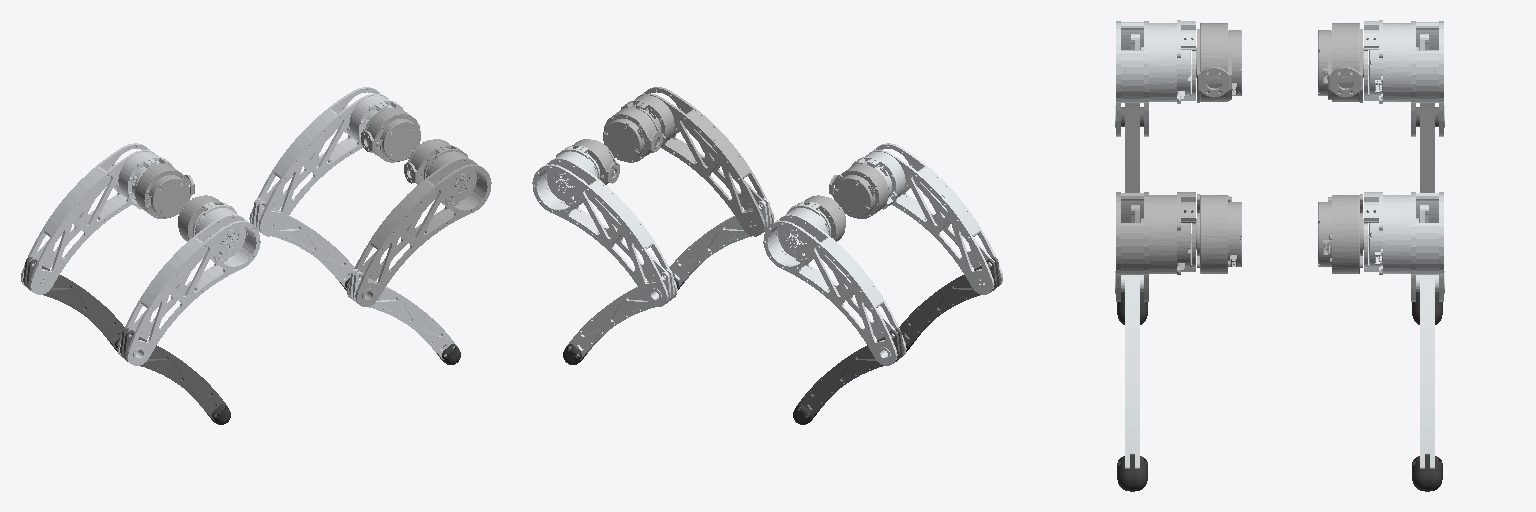
The robot description file, URDF, robot "狗V121.SLDASM":
<?xml version="1.0" encoding="utf-8"?>
<!-- This URDF was automatically created by SolidWorks to URDF Exporter! Originally created by Stephen Brawner (brawner@gmail.com) 
     Commit Version: 1.6.0-4-g7f85cfe  Build Version: 1.6.7995.38578
     For more information, please see http://wiki.ros.org/sw_urdf_exporter -->
<robot
  name="狗V121.SLDASM">
  <link
    name="base_link">
    <inertial>
      <origin
        xyz="-0.0059435691926575 -0.000453042385713198 0.0501292168987138"
        rpy="0 0 0" />
      <mass
        value="4.15713197404765" />
      <inertia
        ixx="0.02291781"
        ixy="-0.00003202"
        ixz="-0.00175005"
        iyy="0.06591285"
        iyz="0.00000542"
        izz="0.07726015" />
    </inertial>
    <visual>
      <origin
        xyz="0 0 0"
        rpy="0 0 0" />
      <geometry>
        <mesh
          filename="package://狗V121.SLDASM/meshes/base_link.STL" />
      </geometry>
      <material
        name="">
        <color
          rgba="0.752941176470588 0.752941176470588 0.752941176470588 1" />
      </material>
    </visual>
    <collision>
      <origin
        xyz="0 0 0"
        rpy="0 0 0" />
      <geometry>
        <mesh
          filename="package://狗V121.SLDASM/meshes/base_link.STL" />
      </geometry>
    </collision>
  </link>
  <link
    name="LF_HipA_link">
    <inertial>
      <origin
        xyz="-0.00311862019787823 5.11900964749179E-05 0.0519616622224092"
        rpy="0 0 0" />
      <mass
        value="0.396736076326694" />
      <inertia
        ixx="0.00044117"
        ixy="0.00000017"
        ixz="0.00000134"
        iyy="0.00031964"
        iyz="-0.00000001"
        izz="0.00028996" />
    </inertial>
    <visual>
      <origin
        xyz="0 0 0"
        rpy="0 0 0" />
      <geometry>
        <mesh
          filename="package://狗V121.SLDASM/meshes/LF_HipA_link.STL" />
      </geometry>
      <material
        name="">
        <color
          rgba="0.752941176470588 0.752941176470588 0.752941176470588 1" />
      </material>
    </visual>
    <collision>
      <origin
        xyz="0 0 0"
        rpy="0 0 0" />
      <geometry>
        <mesh
          filename="package://狗V121.SLDASM/meshes/LF_HipA_link.STL" />
      </geometry>
    </collision>
  </link>
  <joint
    name="LF_HipA_joint"
    type="revolute">
    <origin
      xyz="0.125771692888821 0.0650000000000001 0.0530000000000002"
      rpy="1.5707963267949 0 1.5707963267949" />
    <parent
      link="base_link" />
    <child
      link="LF_HipA_link" />
    <axis
      xyz="0 0 1" />
    <limit
      lower="-3.14"
      upper="3.14"
      effort="20"
      velocity="200" />
  </joint>
  <link
    name="LF_HipF_link">
    <inertial>
      <origin
        xyz="0.0341276001739755 -0.019970957356014 0.0466733516314776"
        rpy="0 0 0" />
      <mass
        value="0.7637679120151" />
      <inertia
        ixx="0.00182877"
        ixy="0.00156140"
        ixz="-0.00056916"
        iyy="0.00329942"
        iyz="0.00032839"
        izz="0.00432348" />
    </inertial>
    <visual>
      <origin
        xyz="0 0 0"
        rpy="0 0 0" />
      <geometry>
        <mesh
          filename="package://狗V121.SLDASM/meshes/LF_HipF_link.STL" />
      </geometry>
      <material
        name="">
        <color
          rgba="0.898039215686275 0.917647058823529 0.929411764705882 1" />
      </material>
    </visual>
    <collision>
      <origin
        xyz="0 0 0"
        rpy="0 0 0" />
      <geometry>
        <mesh
          filename="package://狗V121.SLDASM/meshes/LF_HipF_link.STL" />
      </geometry>
    </collision>
  </link>
  <joint
    name="LF_HipF_joint"
    type="revolute">
    <origin
      xyz="0.0125000000000041 0 0.0520999999999995"
      rpy="0 1.5707963267949 0" />
    <parent
      link="LF_HipA_link" />
    <child
      link="LF_HipF_link" />
    <axis
      xyz="0 0 1" />
    <limit
      lower="-3.14"
      upper="3.14"
      effort="20"
      velocity="200" />
  </joint>
  <link
    name="LF_Knee_link">
    <inertial>
      <origin
        xyz="-0.0681871447456093 -0.0513397743383059 -0.00474999999999215"
        rpy="0 0 0" />
      <mass
        value="0.170056196029707" />
      <inertia
        ixx="0.00035941"
        ixy="-0.00037473"
        ixz="0.00000000"
        iyy="0.00044935"
        iyz="0.00000000"
        izz="0.00080109" />
    </inertial>
    <visual>
      <origin
        xyz="0 0 0"
        rpy="0 0 0" />
      <geometry>
        <mesh
          filename="package://狗V121.SLDASM/meshes/LF_Knee_link.STL" />
      </geometry>
      <material
        name="">
        <color
          rgba="0.898039215686275 0.917647058823529 0.929411764705882 1" />
      </material>
    </visual>
    <collision>
      <origin
        xyz="0 0 0"
        rpy="0 0 0" />
      <geometry>
        <mesh
          filename="package://狗V121.SLDASM/meshes/LF_Knee_link.STL" />
      </geometry>
    </collision>
  </link>
  <joint
    name="LF_Knee_joint"
    type="revolute">
    <origin
      xyz="0.174548813575344 -0.133913075087678 0.0732499999999949"
      rpy="0 0 0" />
    <parent
      link="LF_HipF_link" />
    <child
      link="LF_Knee_link" />
    <axis
      xyz="0 0 1" />
    <limit
      lower="-3.14"
      upper="3.14"
      effort="20"
      velocity="200" />
  </joint>
  <link
    name="LF_Foot_link">
    <inertial>
      <origin
        xyz="-0.151178013734518 -0.139641800910712 -0.00475008129142648"
        rpy="0 0 0" />
      <mass
        value="0.0215020941336779" />
      <inertia
        ixx="0.00000267"
        ixy="-0.00000019"
        ixz="0.00000000"
        iyy="0.00000250"
        iyz="0.00000000"
        izz="0.00000000" />
    </inertial>
    <visual>
      <origin
        xyz="0 0 0"
        rpy="0 0 0" />
      <geometry>
        <mesh
          filename="package://狗V121.SLDASM/meshes/LF_Foot_link.STL" />
      </geometry>
      <material
        name="">
        <color
          rgba="0.298039215686275 0.298039215686275 0.298039215686275 1" />
      </material>
    </visual>
    <collision>
      <origin
        xyz="0 0 0"
        rpy="0 0 0" />
      <geometry>
        <mesh
          filename="package://狗V121.SLDASM/meshes/LF_Foot_link.STL" />
      </geometry>
    </collision>
  </link>
  <joint
    name="LF_Foot_joint"
    type="fixed">
    <origin
      xyz="0 0 0"
      rpy="0 0 0" />
    <parent
      link="LF_Knee_link" />
    <child
      link="LF_Foot_link" />
    <axis
      xyz="0 0 0" />
  </joint>
  <link
    name="LH_HipA_link">
    <inertial>
      <origin
        xyz="-0.00311833956635033 4.94840268334511E-05 0.0508616622224096"
        rpy="0 0 0" />
      <mass
        value="0.396736076326697" />
      <inertia
        ixx="0.00044117"
        ixy="0.00000017"
        ixz="0.00000134"
        iyy="0.00031964"
        iyz="-0.00000001"
        izz="0.00028996" />
    </inertial>
    <visual>
      <origin
        xyz="0 0 0"
        rpy="0 0 0" />
      <geometry>
        <mesh
          filename="package://狗V121.SLDASM/meshes/LH_HipA_link.STL" />
      </geometry>
      <material
        name="">
        <color
          rgba="0.752941176470588 0.752941176470588 0.752941176470588 1" />
      </material>
    </visual>
    <collision>
      <origin
        xyz="0 0 0"
        rpy="0 0 0" />
      <geometry>
        <mesh
          filename="package://狗V121.SLDASM/meshes/LH_HipA_link.STL" />
      </geometry>
    </collision>
  </link>
  <joint
    name="LH_HipA_joint"
    type="revolute">
    <origin
      xyz="-0.173128307111179 0.0649997193684687 0.0529982939303751"
      rpy="-1.5707963267949 0 1.5707963267949" />
    <parent
      link="base_link" />
    <child
      link="LH_HipA_link" />
    <axis
      xyz="0 0 1" />
    <limit
      lower="-3.14"
      upper="3.14"
      effort="20"
      velocity="200" />
  </joint>
  <link
    name="LH_HipF_link">
    <inertial>
      <origin
        xyz="-0.0335539045054427 0.0208556045245979 0.0451733518212865"
        rpy="0 0 0" />
      <mass
        value="0.76376791373992" />
      <inertia
        ixx="0.00191192"
        ixy="0.00159693"
        ixz="0.00055973"
        iyy="0.00321262"
        iyz="-0.00034317"
        izz="0.00431983" />
    </inertial>
    <visual>
      <origin
        xyz="0 0 0"
        rpy="0 0 0" />
      <geometry>
        <mesh
          filename="package://狗V121.SLDASM/meshes/LH_HipF_link.STL" />
      </geometry>
      <material
        name="">
        <color
          rgba="0.898039215686275 0.917647058823529 0.929411764705882 1" />
      </material>
    </visual>
    <collision>
      <origin
        xyz="0 0 0"
        rpy="0 0 0" />
      <geometry>
        <mesh
          filename="package://狗V121.SLDASM/meshes/LH_HipF_link.STL" />
      </geometry>
    </collision>
  </link>
  <joint
    name="LH_HipF_joint"
    type="revolute">
    <origin
      xyz="0.0140002806315319 0 0.0510002692434471"
      rpy="0 1.5707963267949 0" />
    <parent
      link="LH_HipA_link" />
    <child
      link="LH_HipF_link" />
    <axis
      xyz="0 0 1" />
    <limit
      lower="-3.14"
      upper="3.14"
      effort="20"
      velocity="200" />
  </joint>
  <link
    name="LH_Knee_link">
    <inertial>
      <origin
        xyz="-0.06755927194242 -0.0521632429233024 -0.00474893969249238"
        rpy="0 0 0" />
      <mass
        value="0.170056196029707" />
      <inertia
        ixx="0.00036851"
        ixy="-0.00037572"
        ixz="-0.00000001"
        iyy="0.00044025"
        iyz="0.00000000"
        izz="0.00080109" />
    </inertial>
    <visual>
      <origin
        xyz="0 0 0"
        rpy="0 0 0" />
      <geometry>
        <mesh
          filename="package://狗V121.SLDASM/meshes/LH_Knee_link.STL" />
      </geometry>
      <material
        name="">
        <color
          rgba="0.498039215686275 0.498039215686275 0.498039215686275 1" />
      </material>
    </visual>
    <collision>
      <origin
        xyz="0 0 0"
        rpy="0 0 0" />
      <geometry>
        <mesh
          filename="package://狗V121.SLDASM/meshes/LH_Knee_link.STL" />
      </geometry>
    </collision>
  </link>
  <joint
    name="LH_Knee_joint"
    type="revolute">
    <origin
      xyz="-0.170947410141463 0.138478943859888 0.0717500000000038"
      rpy="0 0 -3.14159265358979" />
    <parent
      link="LH_HipF_link" />
    <child
      link="LH_Knee_link" />
    <axis
      xyz="0 0 1" />
    <limit
      lower="-3.14"
      upper="3.14"
      effort="20"
      velocity="200" />
  </joint>
  <link
    name="LH_Foot_link">
    <inertial>
      <origin
        xyz="0.248926113560717 -0.14603319320241 -0.00475008138650498"
        rpy="0 0 0" />
      <mass
        value="0.021502094606986" />
      <inertia
        ixx="2.67e-06"
        ixy="-1.9e-07"
        ixz="0.0"
        iyy="2.49e-06"
        iyz="0.0"
        izz="2.64e-06" />
    </inertial>
    <visual>
      <origin
        xyz="0 0 0"
        rpy="0 0 0" />
      <geometry>
        <mesh
          filename="package://狗V121.SLDASM/meshes/LH_Foot_link.STL" />
      </geometry>
      <material
        name="">
        <color
          rgba="0.298039215686275 0.298039215686275 0.298039215686275 1" />
      </material>
    </visual>
    <collision>
      <origin
        xyz="0 0 0"
        rpy="0 0 0" />
      <geometry>
        <mesh
          filename="package://狗V121.SLDASM/meshes/LH_Foot_link.STL" />
      </geometry>
    </collision>
  </link>
  <joint
    name="LH_Foot_joint"
    type="fixed">
    <origin
      xyz="-0.398398865809566 0.00456757667606787 0"
      rpy="0 0 0" />
    <parent
      link="LH_Knee_link" />
    <child
      link="LH_Foot_link" />
    <axis
      xyz="0 0 0" />
  </joint>
  <link
    name="RF_HipA_link">
    <inertial>
      <origin
        xyz="0.0028533789416032 -0.000721010476898036 0.0463451781487894"
        rpy="0 0 0" />
      <mass
        value="0.396730288390602" />
      <inertia
        ixx="0.00043850"
        ixy="0.00000054"
        ixz="-0.00000420"
        iyy="0.00031442"
        iyz="0.00000450"
        izz="0.00029253" />
    </inertial>
    <visual>
      <origin
        xyz="0 0 0"
        rpy="0 0 0" />
      <geometry>
        <mesh
          filename="package://狗V121.SLDASM/meshes/RF_HipA_link.STL" />
      </geometry>
      <material
        name="">
        <color
          rgba="0.752941176470588 0.752941176470588 0.752941176470588 1" />
      </material>
    </visual>
    <collision>
      <origin
        xyz="0 0 0"
        rpy="0 0 0" />
      <geometry>
        <mesh
          filename="package://狗V121.SLDASM/meshes/RF_HipA_link.STL" />
      </geometry>
    </collision>
  </link>
  <joint
    name="RF_HipA_joint"
    type="revolute">
    <origin
      xyz="0.12901169288882 -0.064734567408595 0.0543625646780483"
      rpy="1.5707963267949 0 1.5707963267949" />
    <parent
      link="base_link" />
    <child
      link="RF_HipA_link" />
    <axis
      xyz="0 0 1" />
    <limit
      lower="-3.14"
      upper="3.14"
      effort="20"
      velocity="200" />
  </joint>
  <link
    name="RF_HipF_link">
    <inertial>
      <origin
        xyz="-0.0351512868473612 -0.0192170456961517 0.0451736156596553"
        rpy="0 0 0" />
      <mass
        value="0.763767910925837" />
      <inertia
        ixx="0.00185694"
        ixy="-0.00156436"
        ixz="0.00056272"
        iyy="0.00323976"
        iyz="0.00033315"
        izz="0.00429198" />
    </inertial>
    <visual>
      <origin
        xyz="0 0 0"
        rpy="0 0 0" />
      <geometry>
        <mesh
          filename="package://狗V121.SLDASM/meshes/RF_HipF_link.STL" />
      </geometry>
      <material
        name="">
        <color
          rgba="0.752941176470588 0.752941176470588 0.752941176470588 1" />
      </material>
    </visual>
    <collision>
      <origin
        xyz="0 0 0"
        rpy="0 0 0" />
      <geometry>
        <mesh
          filename="package://狗V121.SLDASM/meshes/RF_HipF_link.STL" />
      </geometry>
    </collision>
  </link>
  <joint
    name="RF_HipF_joint"
    type="revolute">
    <origin
      xyz="-0.014265 -0.0013609 0.048861"
      rpy="0 -1.5708 0" />
    <parent
      link="RF_HipA_link" />
    <child
      link="RF_HipF_link" />
    <axis
      xyz="0 0 1" />
    <limit
      lower="-3.14"
      upper="3.14"
      effort="20"
      velocity="200" />
  </joint>
  <link
    name="RF_Knee_link">
    <inertial>
      <origin
        xyz="0.0681871447456474 -0.0513397743383076 -0.00474999999999248"
        rpy="0 0 0" />
      <mass
        value="0.170056196029707" />
      <inertia
        ixx="0.00035941"
        ixy="-0.00037473"
        ixz="0.0"
        iyy="0.00044935"
        iyz="0.0"
        izz="0.00080109" />
    </inertial>
    <visual>
      <origin
        xyz="0 0 0"
        rpy="0 0 0" />
      <geometry>
        <mesh
          filename="package://狗V121.SLDASM/meshes/RF_Knee_link.STL" />
      </geometry>
      <material
        name="">
        <color
          rgba="0.898039215686275 0.917647058823529 0.929411764705882 1" />
      </material>
    </visual>
    <collision>
      <origin
        xyz="0 0 0"
        rpy="0 0 0" />
      <geometry>
        <mesh
          filename="package://狗V121.SLDASM/meshes/RF_Knee_link.STL" />
      </geometry>
    </collision>
  </link>
  <joint
    name="RF_Knee_joint"
    type="revolute">
    <origin
      xyz="-0.174549374235486 -0.13391471065725 0.0717499999999961"
      rpy="0 0 0" />
    <parent
      link="RF_HipF_link" />
    <child
      link="RF_Knee_link" />
    <axis
      xyz="0 0 1" />
    <limit
      lower="-3.14"
      upper="3.14"
      effort="20"
      velocity="200" />
  </joint>
  <link
    name="RF_Foot_link">
    <inertial>
      <origin
        xyz="0.151178013734359 -0.139641800910903 -0.00474991870855934"
        rpy="0 0 0" />
      <mass
        value="0.0215020941336779" />
      <inertia
        ixx="2.67e-6"
        ixy="1.9e-7"
        ixz="0.0"
        iyy="2.50e-6"
        iyz="0.0"
        izz="2.64e-6" />
    </inertial>
    <visual>
      <origin
        xyz="0 0 0"
        rpy="0 0 0" />
      <geometry>
        <mesh
          filename="package://狗V121.SLDASM/meshes/RF_Foot_link.STL" />
      </geometry>
      <material
        name="">
        <color
          rgba="0.298039215686275 0.298039215686275 0.298039215686275 1" />
      </material>
    </visual>
    <collision>
      <origin
        xyz="0 0 0"
        rpy="0 0 0" />
      <geometry>
        <mesh
          filename="package://狗V121.SLDASM/meshes/RF_Foot_link.STL" />
      </geometry>
    </collision>
  </link>
  <joint
    name="RF_Foot_joint"
    type="fixed">
    <origin
      xyz="0 0 0"
      rpy="0 0 0" />
    <parent
      link="RF_Knee_link" />
    <child
      link="RF_Foot_link" />
    <axis
      xyz="0 0 0" />
  </joint>
  <link
    name="RH_HipA_link">
    <inertial>
      <origin
        xyz="-0.00311823997383992 -0.000639922408346944 0.0484851781487907"
        rpy="0 0 0" />
      <mass
        value="0.396730288390598" />
      <inertia
        ixx="0.00043850"
        ixy="0.00000054"
        ixz="0.00000420"
        iyy="0.00031442"
        iyz="-0.00000450"
        izz="0.00029253" />
    </inertial>
    <visual>
      <origin
        xyz="0 0 0"
        rpy="0 0 0" />
      <geometry>
        <mesh
          filename="package://狗V121.SLDASM/meshes/RH_HipA_link.STL" />
      </geometry>
      <material
        name="">
        <color
          rgba="0.752941176470588 0.752941176470588 0.752941176470588 1" />
      </material>
    </visual>
    <collision>
      <origin
        xyz="0 0 0"
        rpy="0 0 0" />
      <geometry>
        <mesh
          filename="package://狗V121.SLDASM/meshes/RH_HipA_link.STL" />
      </geometry>
    </collision>
  </link>
  <joint
    name="RH_HipA_joint"
    type="revolute">
    <origin
      xyz="-0.173128307111179 -0.0649994284408281 0.0529983682072023"
      rpy="1.5707963267949 0 -1.5707963267949" />
    <parent
      link="base_link" />
    <child
      link="RH_HipA_link" />
    <axis
      xyz="0 0 1" />
    <limit
      lower="-3.14"
      upper="3.14"
      effort="20"
      velocity="200" />
  </joint>
  <link
    name="RH_HipF_link">
    <inertial>
      <origin
        xyz="-0.034596355200457 -0.0201274410832043 0.0451748718995732"
        rpy="0 0 0" />
      <mass
        value="0.763767912551315" />
      <inertia
        ixx="0.00194019"
        ixy="-0.00159755"
        ixz="0.00055313"
        iyy="0.00315294"
        iyz="0.00034774"
        izz="0.00428837" />
    </inertial>
    <visual>
      <origin
        xyz="0 0 0"
        rpy="0 0 0" />
      <geometry>
        <mesh
          filename="package://狗V121.SLDASM/meshes/RH_HipF_link.STL" />
      </geometry>
      <material
        name="">
        <color
          rgba="0.898039215686275 0.917647058823529 0.929411764705882 1" />
      </material>
    </visual>
    <collision>
      <origin
        xyz="0 0 0"
        rpy="0 0 0" />
      <geometry>
        <mesh
          filename="package://狗V121.SLDASM/meshes/RH_HipF_link.STL" />
      </geometry>
    </collision>
  </link>
  <joint
    name="RH_HipF_joint"
    type="revolute">
    <origin
      xyz="0.0140005715591718 0 0.0510005606601417"
      rpy="0 1.5707963267949 0" />
    <parent
      link="RH_HipA_link" />
    <child
      link="RH_HipF_link" />
    <axis
      xyz="0 0 1" />
    <limit
      lower="-3.14"
      upper="3.14"
      effort="20"
      velocity="200" />
  </joint>
  <link
    name="RH_Knee_link">
    <inertial>
      <origin
        xyz="0.0675592719424158 -0.0521632429232857 -0.00474893969249285"
        rpy="0 0 0" />
      <mass
        value="0.170056196029707" />
      <inertia
        ixx="0.00036851"
        ixy="-0.00037572"
        ixz="-0.00000001"
        iyy="0.00044025"
        iyz="-0.00000000"
        izz="0.00080109" />
    </inertial>
    <visual>
      <origin
        xyz="0 0 0"
        rpy="0 0 0" />
      <geometry>
        <mesh
          filename="package://狗V121.SLDASM/meshes/RH_Knee_link.STL" />
      </geometry>
      <material
        name="">
        <color
          rgba="0.498039215686275 0.498039215686275 0.498039215686275 1" />
      </material>
    </visual>
    <collision>
      <origin
        xyz="0 0 0"
        rpy="0 0 0" />
      <geometry>
        <mesh
          filename="package://狗V121.SLDASM/meshes/RH_Knee_link.STL" />
      </geometry>
    </collision>
  </link>
  <joint
    name="RH_Knee_joint"
    type="revolute">
    <origin
      xyz="-0.17094711872477 -0.138479016194165 0.0717500000000046"
      rpy="0 0 0" />
    <parent
      link="RH_HipF_link" />
    <child
      link="RH_Knee_link" />
    <axis
      xyz="0 0 1" />
    <limit
      lower="-3.14"
      upper="3.14"
      effort="20"
      velocity="200" />
  </joint>
  <link
    name="RH_Foot_link">
    <inertial>
      <origin
        xyz="0.149472752248845 -0.141465616526329 -0.00474991861349056"
        rpy="0 0 0" />
      <mass
        value="0.021502094606986" />
      <inertia
        ixx="2.67e-6"
        ixy="1.9e-7"
        ixz="0.0"
        iyy="2.49e-6"
        iyz="0.0"
        izz="2.64e-6" />
    </inertial>
    <visual>
      <origin
        xyz="0 0 0"
        rpy="0 0 0" />
      <geometry>
        <mesh
          filename="package://狗V121.SLDASM/meshes/RH_Foot_link.STL" />
      </geometry>
      <material
        name="">
        <color
          rgba="0.298039215686275 0.298039215686275 0.298039215686275 1" />
      </material>
    </visual>
    <collision>
      <origin
        xyz="0 0 0"
        rpy="0 0 0" />
      <geometry>
        <mesh
          filename="package://狗V121.SLDASM/meshes/RH_Foot_link.STL" />
      </geometry>
    </collision>
  </link>
  <joint
    name="RH_Foot_joint"
    type="fixed">
    <origin
      xyz="0 0 0"
      rpy="0 0 0" />
    <parent
      link="RH_Knee_link" />
    <child
      link="RH_Foot_link" />
    <axis
      xyz="0 0 0" />
  </joint>
</robot>

--- What the picture shows (computed from the rendered views, not written in the file) ---
The picture shows the robot from 3 angles, left to right: view 1: azimuth 30°, elevation 25°; view 2: azimuth 150°, elevation 25°; view 3: azimuth 270°, elevation 25°; orthographic projection.
Model 狗V121.SLDASM with 17 links and 16 joints (12 revolute, 4 fixed), rooted at base_link, posed all joints at 0.
Visible links, largest first — view 1: RH_HipF_link, RF_HipF_link, LH_HipF_link, LF_HipF_link, LF_HipA_link, LH_HipA_link, RF_Knee_link, RH_Knee_link, LH_Knee_link, LF_Knee_link, RF_HipA_link, RH_HipA_link; view 2: LH_HipF_link, LF_HipF_link, RH_HipF_link, RF_HipF_link, RF_HipA_link, RH_HipA_link, LF_Knee_link, LH_Knee_link, RH_Knee_link, RF_Knee_link, LF_HipA_link, LH_HipA_link; view 3: LH_HipF_link, RH_HipF_link, LF_HipF_link, RF_HipF_link, RH_HipA_link, LH_HipA_link, RF_HipA_link, LF_HipA_link, LF_Knee_link, RF_Knee_link, LH_Knee_link, RH_Knee_link (+2 smaller).
Link boxes in pixels (box(x1,y1,x2,y2)): RH_HipF_link: box(117, 202, 260, 365); RF_HipF_link: box(346, 146, 491, 306); LH_HipF_link: box(21, 143, 171, 294); LF_HipF_link: box(249, 87, 402, 236); LF_HipA_link: box(361, 108, 420, 162); LH_HipA_link: box(135, 163, 194, 218); RF_Knee_link: box(349, 269, 457, 359); RH_Knee_link: box(120, 328, 227, 419); LH_Knee_link: box(23, 257, 124, 348); LF_Knee_link: box(252, 198, 354, 288); RF_HipA_link: box(404, 139, 451, 184); RH_HipA_link: box(178, 195, 234, 241); LH_HipF_link: box(763, 202, 906, 365); LF_HipF_link: box(532, 146, 677, 306); RH_HipF_link: box(852, 143, 1002, 294); RF_HipF_link: box(621, 87, 774, 236); RF_HipA_link: box(603, 108, 662, 162); RH_HipA_link: box(829, 163, 888, 218); LF_Knee_link: box(566, 269, 674, 359); LH_Knee_link: box(796, 328, 903, 419); RH_Knee_link: box(899, 257, 1000, 348); RF_Knee_link: box(669, 198, 771, 288); LF_HipA_link: box(572, 139, 619, 184); LH_HipA_link: box(789, 195, 845, 241); LH_HipF_link: box(1364, 20, 1444, 136); RH_HipF_link: box(1115, 20, 1195, 136); LF_HipF_link: box(1364, 192, 1444, 301); RF_HipF_link: box(1115, 192, 1195, 301); RH_HipA_link: box(1196, 23, 1241, 102); LH_HipA_link: box(1318, 23, 1363, 102); RF_HipA_link: box(1196, 194, 1241, 273); LF_HipA_link: box(1318, 194, 1363, 273); LF_Knee_link: box(1416, 275, 1438, 468); RF_Knee_link: box(1121, 275, 1143, 468); LH_Knee_link: box(1416, 103, 1438, 192); RH_Knee_link: box(1121, 103, 1143, 192).
Size in the robot's own frame: 0.6329 by 0.327 by 0.3382 metres.
16 mesh visuals loaded from 17 distinct referenced files (16 binary STL); not drawn: 1 (reference not matched to a file when rendering).
